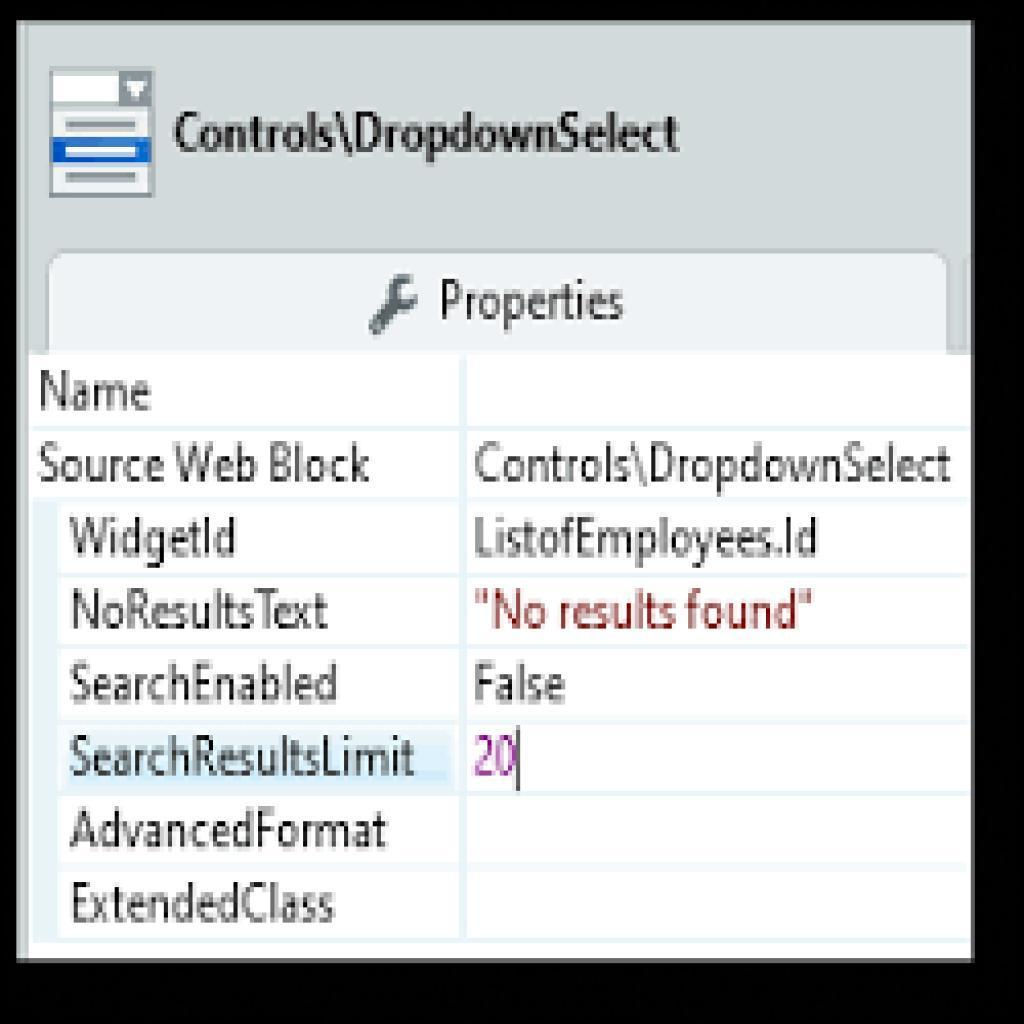icon: (351, 270, 437, 341)
table: (32, 354, 977, 960)
